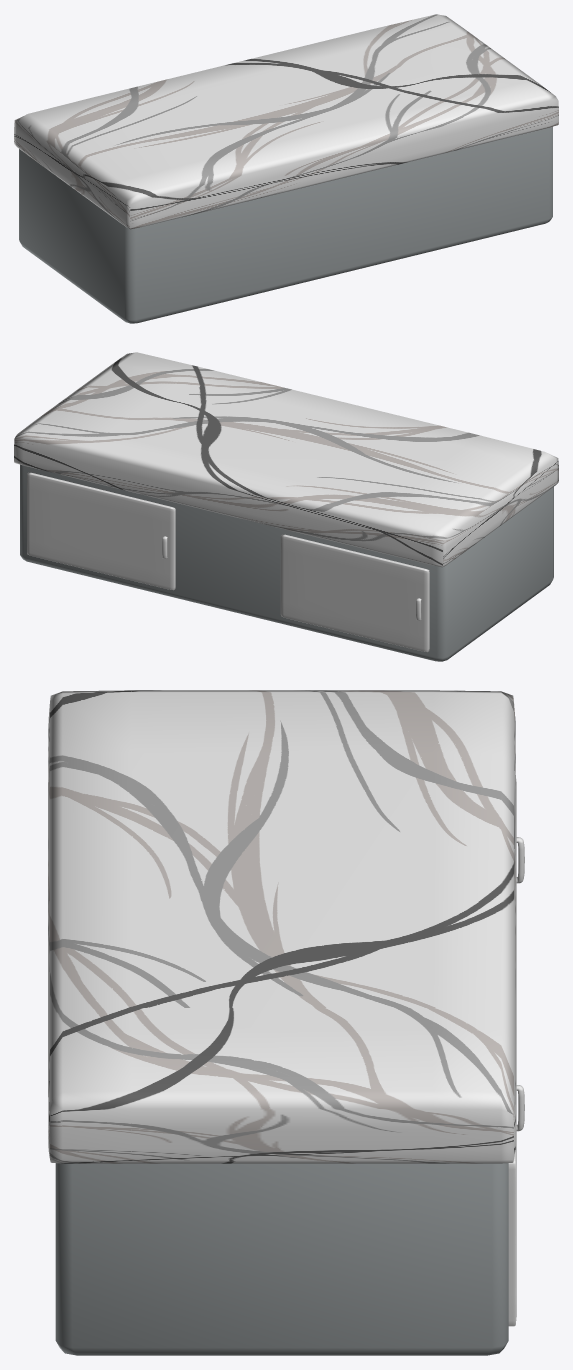
The model's file is CoffeCount2.fbx.
The picture shows the model from 3 angles, top to bottom: view 1: azimuth 30°, elevation 25°; view 2: azimuth 150°, elevation 25°; view 3: azimuth 270°, elevation 25°; orthographic projection. The views are drawn at different scales.
Visible parts, largest first — view 1: cabinethandler.007; view 2: cabinethandler.007; view 3: cabinethandler.007.
Boxes of the visible parts, bbox=[...] form: cabinethandler.007: bbox=[14, 14, 558, 323]; cabinethandler.007: bbox=[14, 352, 558, 661]; cabinethandler.007: bbox=[48, 690, 524, 1355].
Size of the model in its own units: 328 by 96.01 by 158.
